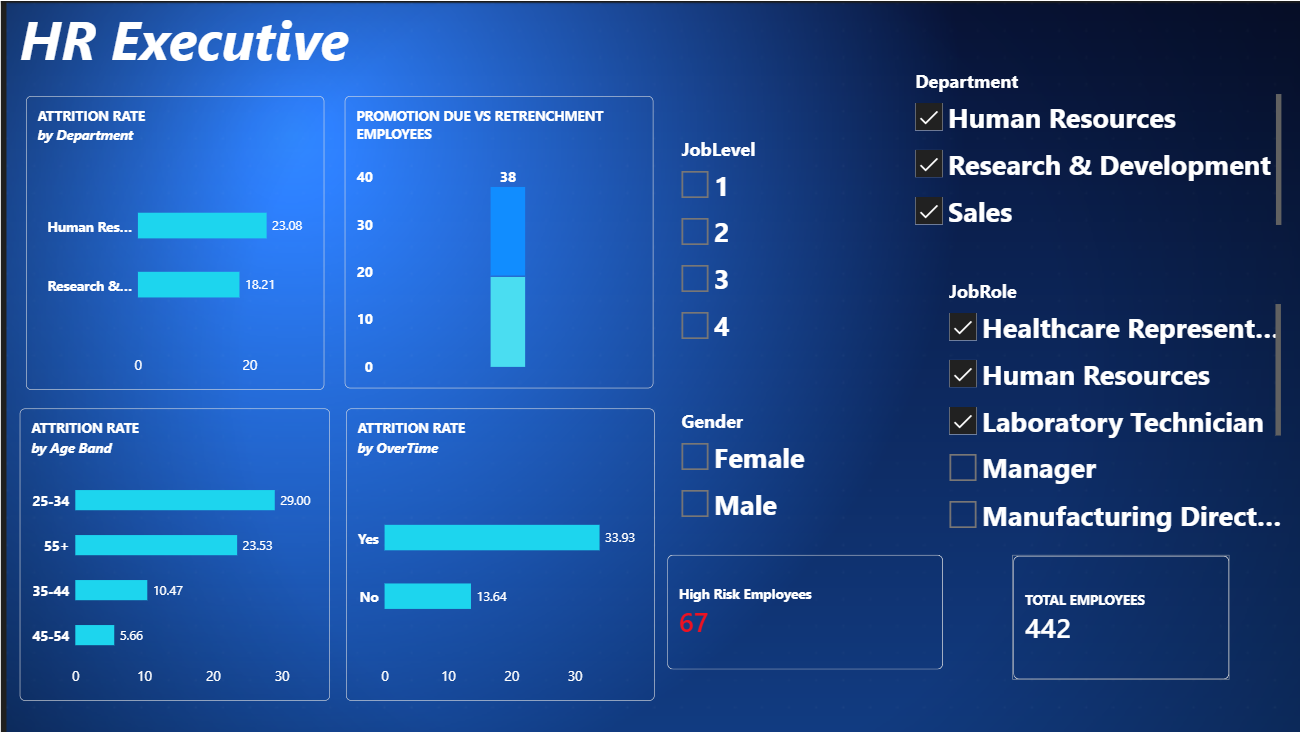

What the dashboard file says about the page in this screenshot:
{"tool":"powerbi","page":{"name":"HR EXECUTIVE","canvas":[1920,1080],"ordinal":0},"visuals":[{"type":"textbox","box":[27.6,0,953.4,121.5],"z":0},{"type":"clusteredBarChart","fields":{"Category":["HR.Department"],"Y":["KPICalculations.ATTRITION RATE"]},"box":[36.8,140.7,439.3,432.8],"z":1000},{"type":"clusteredBarChart","fields":{"Category":["HR.Age Band"],"Y":["KPICalculations.ATTRITION RATE"]},"box":[28.1,599.5,456.6,430.7],"z":2000},{"type":"clusteredBarChart","fields":{"Category":["HR.OverTime"],"Y":["KPICalculations.ATTRITION RATE"]},"box":[508.6,599.5,454.5,430.7],"z":3000},{"type":"columnChart","title":"PROMOTION DUE VS RETRENCHMENT EMPLOYEES","fields":{"Y":["KPICalculations.PROMOTION DUE","KPICalculations.RETRENCHMENT EMPLOYEES"]},"box":[506.4,140.7,454.5,430.7],"z":4000},{"type":"cardVisual","fields":{"Data":["KPICalculations.High Risk Employees"]},"box":[993.9,828.2,547.5,168.8],"z":5000},{"type":"cardVisual","fields":{"Data":["KPICalculations.TOTAL EMPLOYEES"]},"box":[1325.2,583.4,320.3,134.2],"z":6000},{"type":"slicer","fields":{"Values":["HR.JobLevel"]},"box":[993.9,198.8,257.7,384.7],"z":8000},{"type":"slicer","fields":{"Values":["HR.Gender"]},"box":[993.9,600,547.5,184],"z":9000},{"type":"slicer","fields":{"Values":["HR.JobRole"]},"box":[1325.2,217.2,496.9,384.7],"z":10000},{"type":"slicer","fields":{"Values":["HR.Department"]},"box":[1338,25.8,484.1,191.4],"z":11000}]}

Visuals, with their boxes in screenshot pixels (x1, y1, x2, y2), scaled from the page's 1920x1080 canvas onto the 1300x732 screenshot:
textbox: rect(19, 0, 664, 82)
clusteredBarChart - HR.Department x KPICalculations.ATTRITION RATE: rect(25, 95, 322, 389)
clusteredBarChart - HR.Age Band x KPICalculations.ATTRITION RATE: rect(19, 406, 328, 698)
clusteredBarChart - HR.OverTime x KPICalculations.ATTRITION RATE: rect(344, 406, 652, 698)
"PROMOTION DUE VS RETRENCHMENT EMPLOYEES" columnChart: rect(343, 95, 651, 387)
cardVisual - KPICalculations.High Risk Employees: rect(673, 561, 1044, 676)
cardVisual - KPICalculations.TOTAL EMPLOYEES: rect(897, 395, 1114, 486)
slicer - HR.JobLevel: rect(673, 135, 847, 395)
slicer - HR.Gender: rect(673, 407, 1044, 531)
slicer - HR.JobRole: rect(897, 147, 1234, 408)
slicer - HR.Department: rect(906, 17, 1234, 147)
